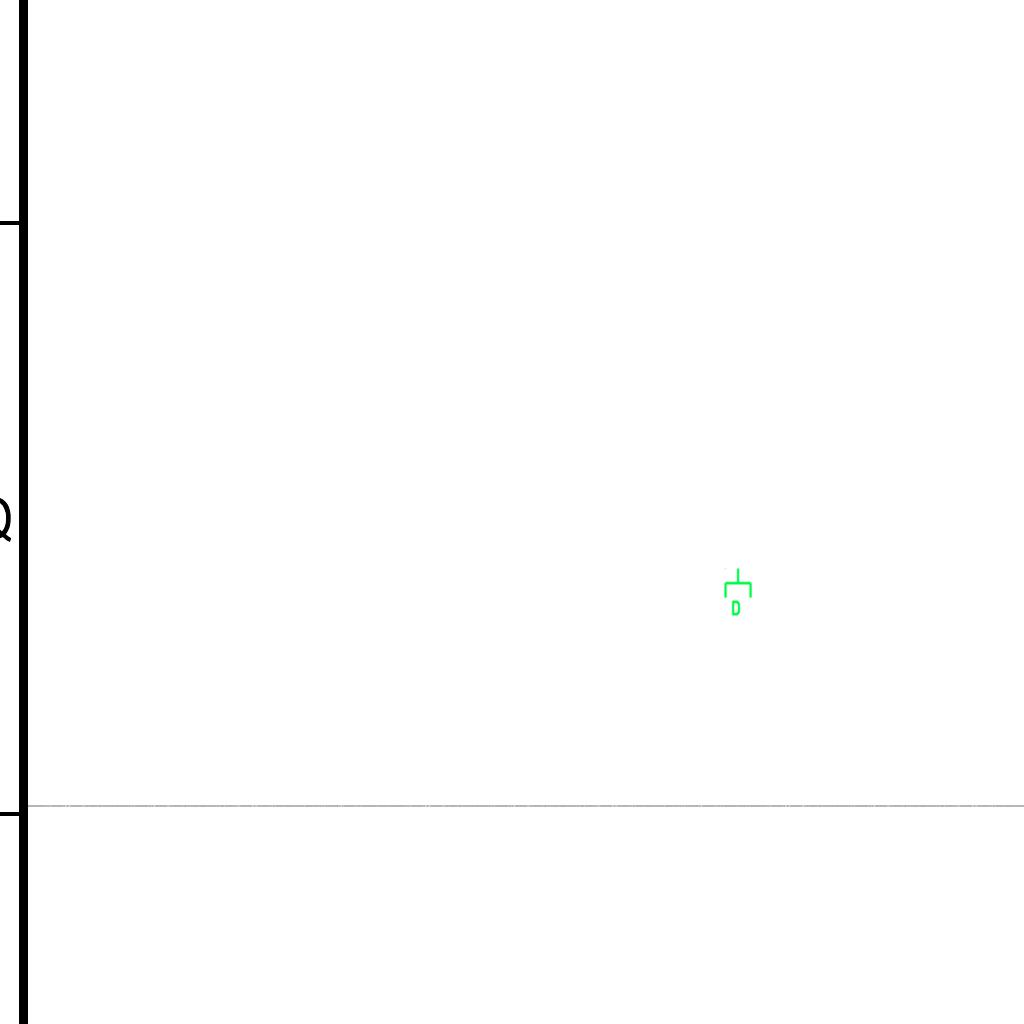Datenanschluss_einfach: (722, 567, 756, 617)
